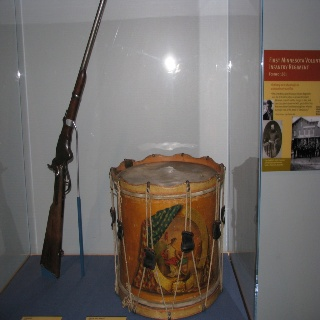rifle: (40, 1, 107, 277)
